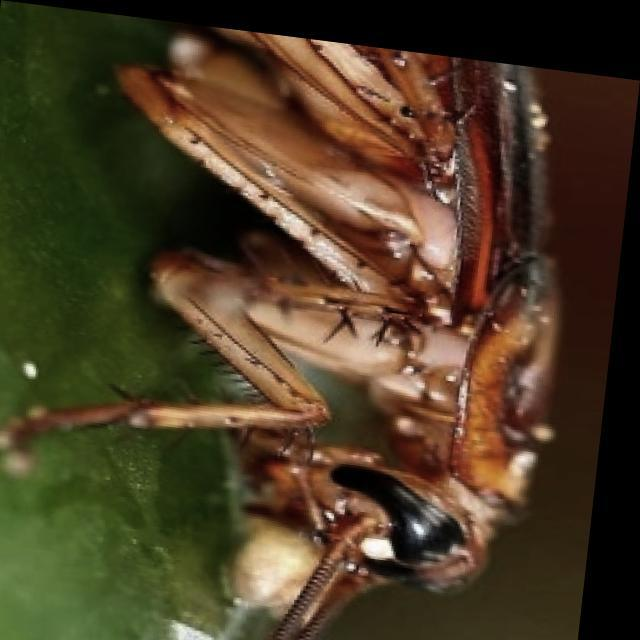cockroach: (3, 28, 566, 637)
